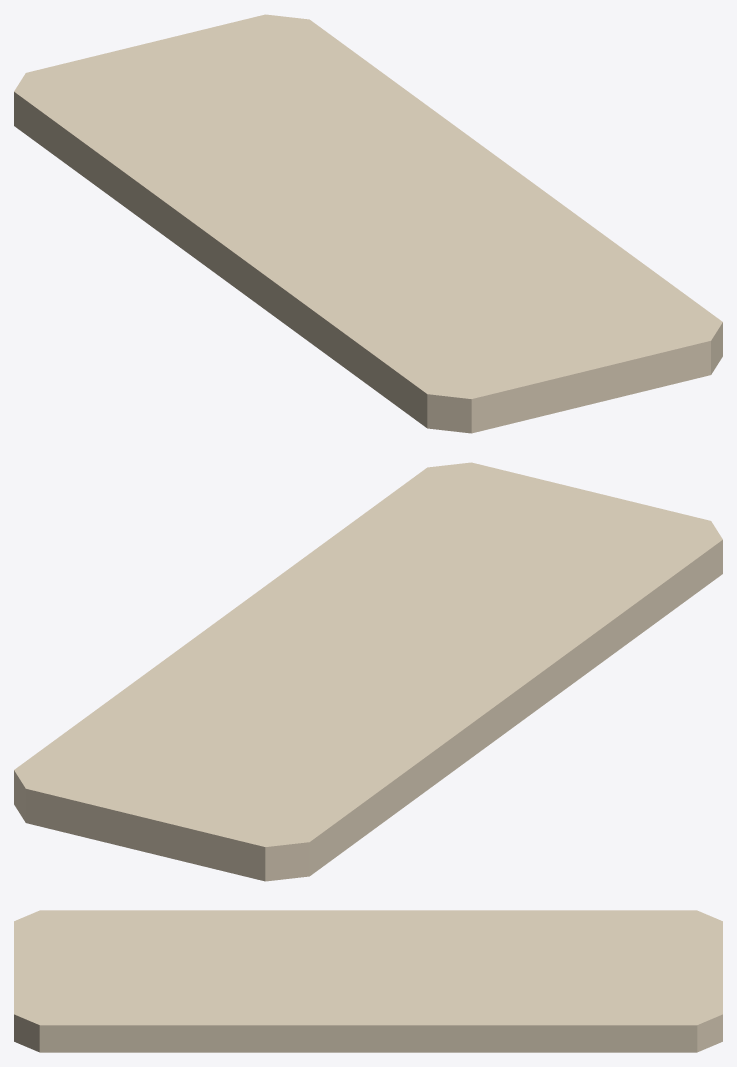
File: Name_Athena.fbx
The picture shows the model from 3 angles, top to bottom: view 1: azimuth 30°, elevation 25°; view 2: azimuth 150°, elevation 25°; view 3: azimuth 270°, elevation 25°; orthographic projection. The views are drawn at different scales.
Visible parts, largest first — view 1: Cube.006; view 2: Cube.006; view 3: Cube.006.
Boxes of the visible parts, x1=… form: Cube.006: x1=14, y1=14, x2=722, y2=433; Cube.006: x1=14, y1=462, x2=722, y2=881; Cube.006: x1=14, y1=910, x2=722, y2=1052.
Size of the model in its own units: 36.91 by 4.1 by 96.36.
